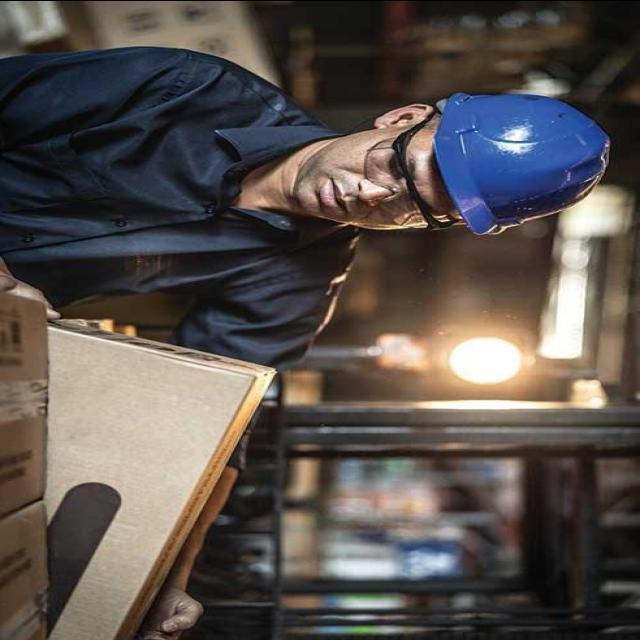helmet: (430, 82, 610, 238)
